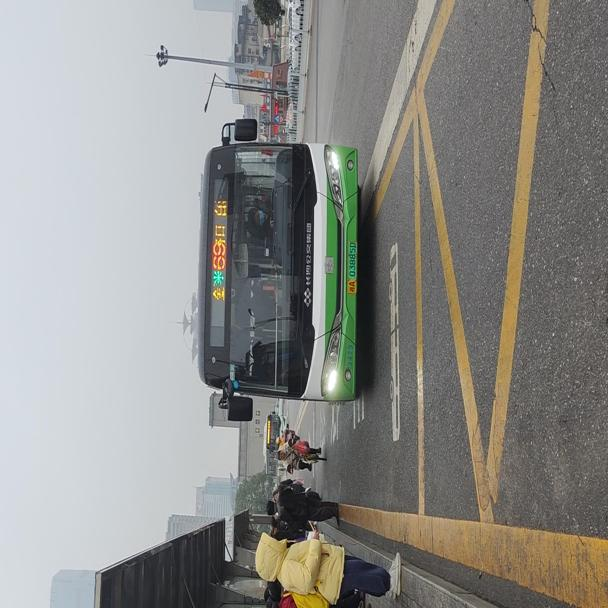bus: (198, 117, 360, 424)
screen: (210, 243, 226, 271)
